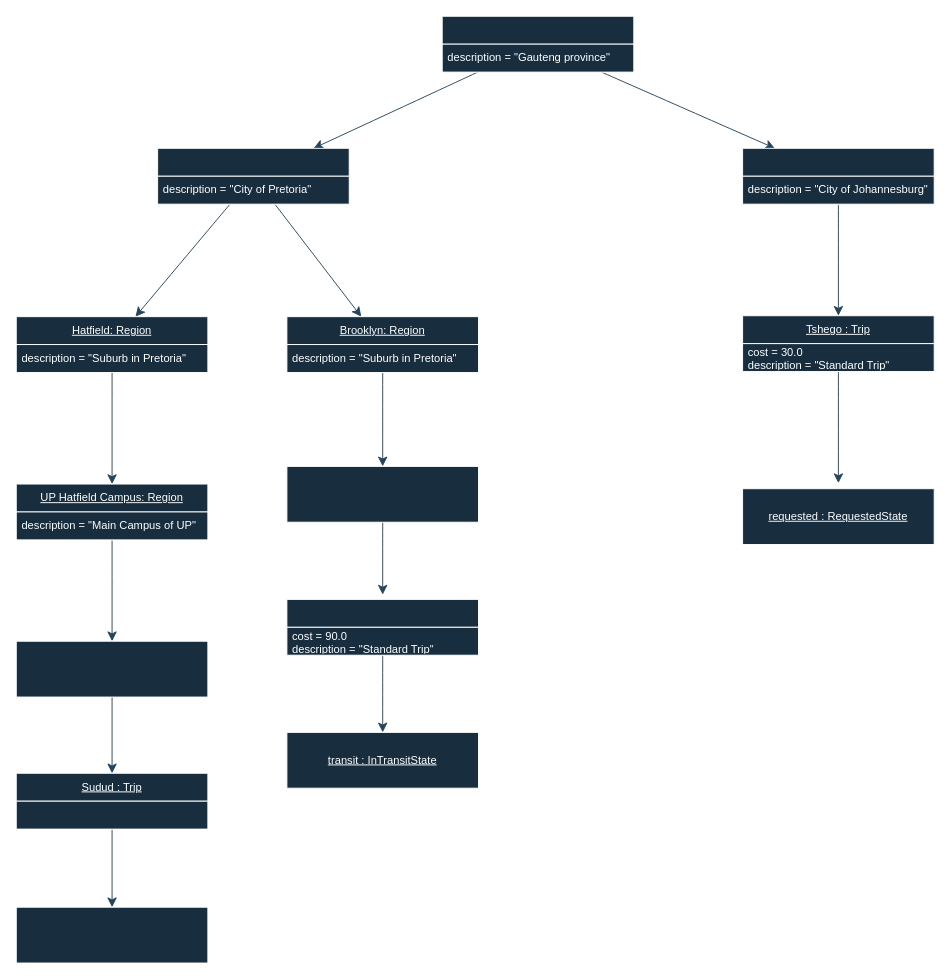
Image size: 950x979. Some labels were removed from this diagram. Here are the shapes that lost their labels. From the top down, the box of each, then its label:
(441, 15, 634, 72): Gauteng: Region
(157, 147, 349, 204): Pretoria: Region
(742, 147, 934, 204): Johannesburg: Region
(286, 465, 478, 522): UberBlackDec : UberBlackFeature
(286, 598, 478, 655): Motheo : Trip
(15, 640, 208, 697): PriorityDec : PriorityTripFeature
(15, 800, 208, 829): cost = 60.0 description = "Standard Trip"
(15, 906, 208, 963): completed : CompletedState
